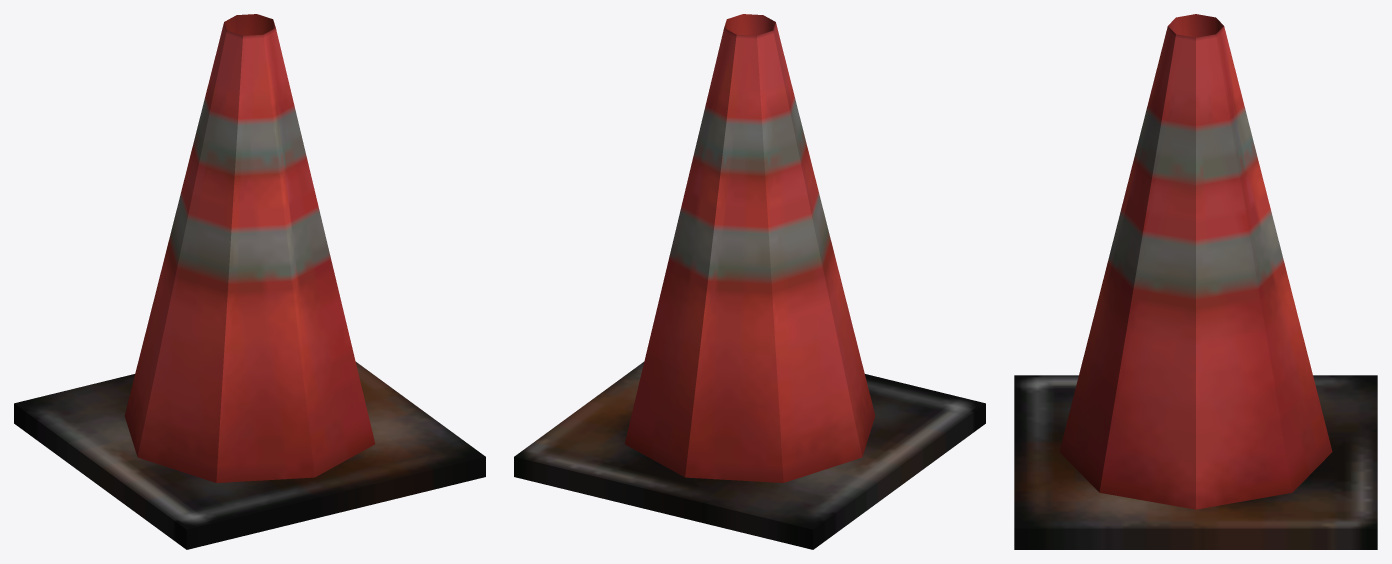
The model's file is obscone.fbx.
3 views of the same model, side by side, from view 1: azimuth 30°, elevation 25°; view 2: azimuth 150°, elevation 25°; view 3: azimuth 270°, elevation 25° (orthographic). The views are drawn at different scales.
Parts seen in each view (by area): view 1: mesh_0, mesh_1; view 2: mesh_0, mesh_1; view 3: mesh_0, mesh_1.
Part boxes in pixels (box(x1,y1,x2,y2)): mesh_0: box(124, 14, 375, 482); mesh_1: box(14, 362, 485, 549); mesh_0: box(624, 14, 875, 482); mesh_1: box(514, 362, 985, 549); mesh_0: box(1059, 14, 1332, 509); mesh_1: box(1014, 375, 1377, 549).
Bounding box in the file's own units: 38.65 × 52.51 × 38.65.
1 material, 1 textured.
